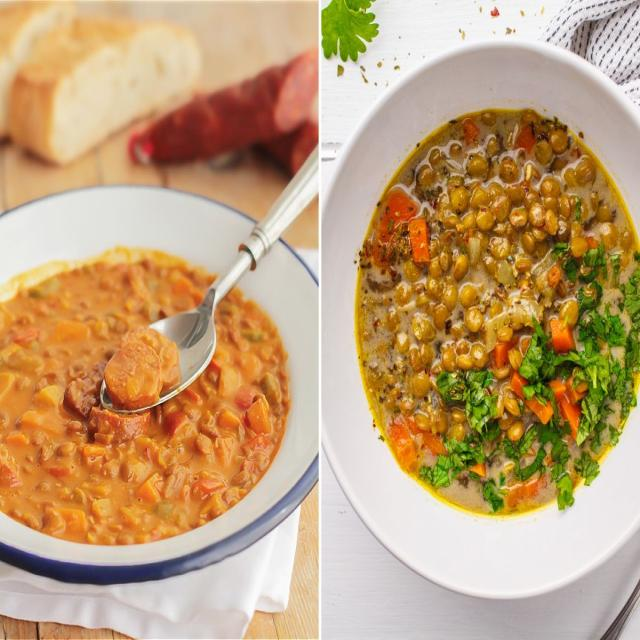frijoles: (3, 232, 292, 564)
lentejas: (343, 94, 639, 538)
